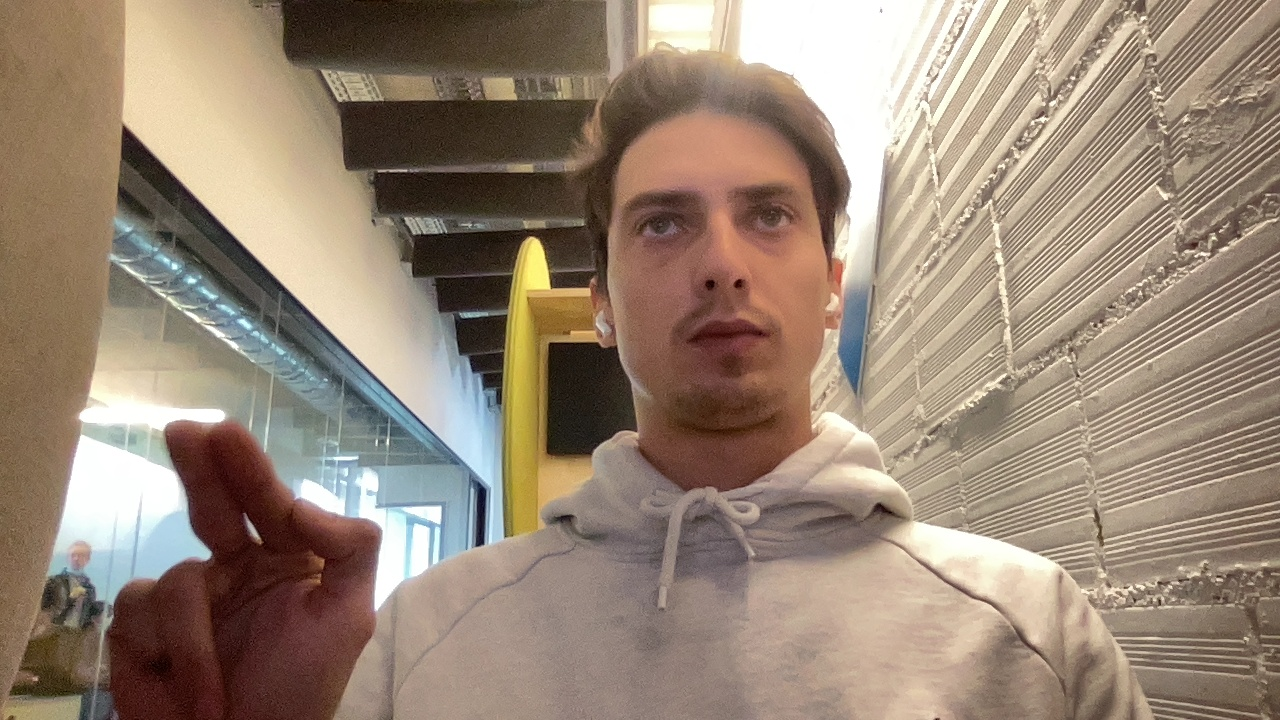no: (91, 410, 384, 718)
